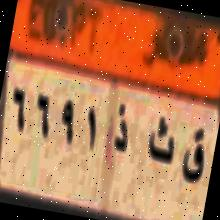1: (76, 96, 106, 164)
6: (1, 87, 35, 139), (30, 92, 59, 142)
9: (55, 100, 82, 150)
qaaf: (175, 117, 214, 199)
thaa: (138, 106, 183, 177)
zaal: (105, 99, 138, 158)
